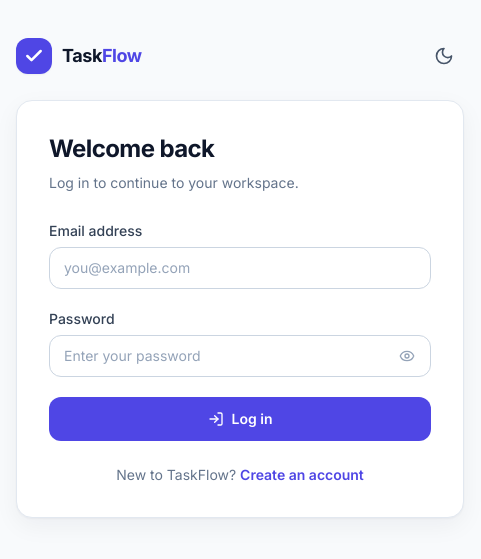
LoginPage › shows validation errors without calling the API
Click the button "Log in". click: (240, 419)
box: [49,397,431,441]
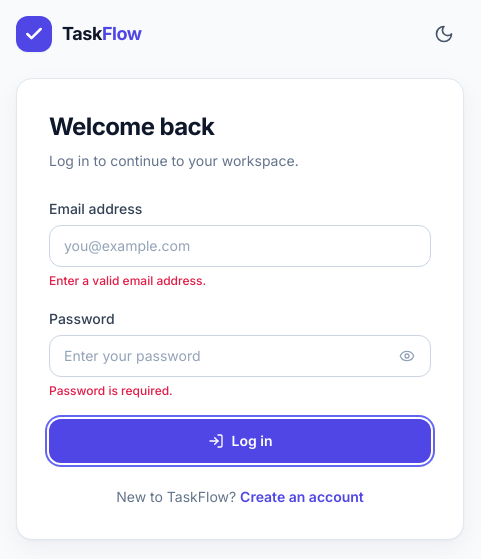
Now the text "Enter a valid email address." is shown, box [49,273,206,288]
Now the text "Password is required." is shown, box [49,383,173,398]
